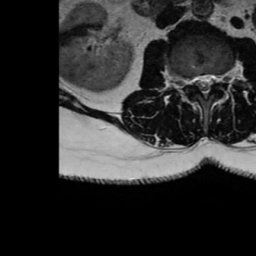CCS_normal: (201, 69, 209, 102)
LFS_normal: (217, 67, 225, 89)
LLS_normal: (209, 69, 217, 92)
RFS_normal: (184, 70, 192, 91)
RLS_normal: (192, 68, 201, 92)
